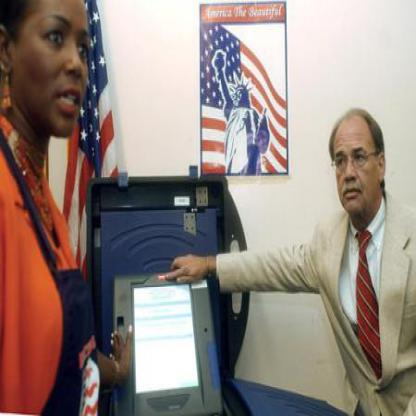face: (11, 1, 103, 144), (333, 116, 381, 216)
